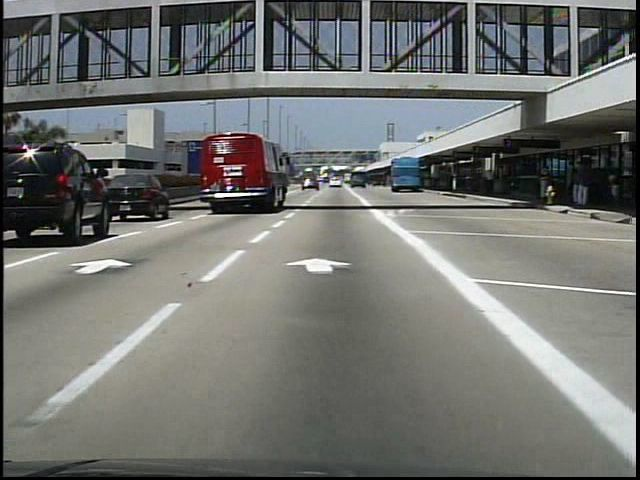person: (603, 168, 621, 211), (483, 165, 495, 193)
